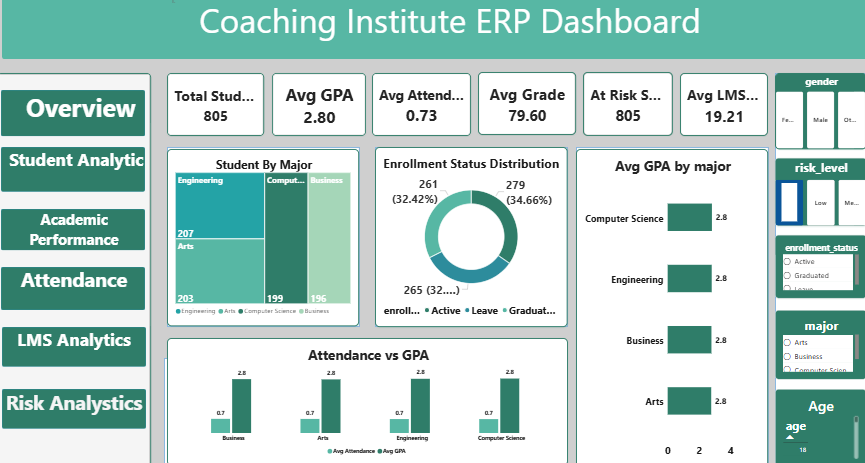

This screenshot's page, from the dashboard's own definition file:
{"tool":"powerbi","page":{"name":"Page 1","canvas":[1920,1080],"ordinal":0},"visuals":[{"type":"shape","box":[50.9,206.5,332.5,976.1],"z":0},{"type":"actionButton","box":[1980.8,1126.3,164.5,67.9],"z":1000},{"type":"actionButton","box":[50.9,756.2,311.1,85.8],"z":2000},{"type":"actionButton","box":[50.1,500.6,311.1,89.4],"z":3000},{"type":"actionButton","box":[50.1,243.1,311.1,100.1],"z":4000},{"type":"actionButton","box":[50.1,368.3,311.1,96.5],"z":5000},{"type":"actionButton","box":[50.1,625.7,311.1,93],"z":6000},{"type":"actionButton","box":[50.9,42.9,1869.1,134.1],"z":7000},{"type":"textbox","box":[50.9,42.9,1869.1,134.1],"z":8000},{"type":"textbox","box":[604.2,273.5,12.5,67.9],"z":9000},{"type":"actionButton","box":[50.9,890.3,311.1,85.8],"z":10000},{"type":"textbox","box":[50.9,244,311.1,99.2],"z":11000},{"type":"textbox","box":[50.9,367.4,311.1,96.5],"z":12000},{"type":"textbox","box":[50.9,501.5,311.1,88.5],"z":13000},{"type":"textbox","box":[50.9,624.8,311.1,93.9],"z":14000},{"type":"textbox","box":[50.9,756.2,311.1,85.8],"z":15000},{"type":"textbox","box":[50.9,890.3,311.1,85.8],"z":16000},{"type":"cardVisual","fields":{"Data":["Sheet1.Total Students"]},"box":[408.2,207.4,209.5,136.1],"z":17000},{"type":"cardVisual","fields":{"Data":["Sheet1.Avg GPA"]},"box":[635,207.4,203,136.1],"z":18000},{"type":"cardVisual","fields":{"Data":["Sheet1.Avg Attendance"]},"box":[851,207.4,213.8,136.1],"z":19000},{"type":"cardVisual","fields":{"Data":["Sheet1.Avg Grade"]},"box":[1080,205.2,211.7,136.1],"z":20000},{"type":"cardVisual","fields":{"Data":["Sheet1.At Risk Students"]},"box":[1306.8,205.2,194.4,138.2],"z":21000},{"type":"cardVisual","fields":{"Data":["Sheet1.Avg LMS Logins"]},"box":[1516.3,207.4,190.1,136.1],"z":22000},{"type":"shape","box":[407.6,367.4,415.6,388.8],"z":23000},{"type":"shape","box":[1292.5,367.4,415.6,691.8],"z":24000},{"type":"shape","box":[858.1,367.4,415.6,388.8],"z":25000},{"type":"shape","box":[402.2,823.2,871.5,236],"z":26000},{"type":"shape","box":[1721.5,207.4,198.7,851],"z":27000},{"type":"donutChart","title":"Enrollment Status Distribution","fields":{"Category":["Sheet1.enrollment_status"],"Y":["Sheet1.Student Count"]},"box":[858.1,367.4,415.6,388.8],"z":28000},{"type":"clusteredColumnChart","title":"Attendance vs GPA","fields":{"Category":["Sheet1.major"],"Y":["Sheet1.Avg Attendance","Sheet1.Avg GPA"]},"box":[407.6,780.3,866.1,276.2],"z":30000},{"type":"advancedSlicerVisual","fields":{"Values":["Sheet1.risk_level"]},"box":[1721.6,391.5,198.4,147.5],"z":31000},{"type":"listSlicer","fields":{"Values":["Sheet1.enrollment_status"]},"box":[1721.6,557.8,198.4,136.8],"z":32000},{"type":"listSlicer","fields":{"Values":["Sheet1.major"]},"box":[1721.6,718.7,198.4,150.2],"z":33000},{"type":"clusteredBarChart","fields":{"Category":["Sheet1.major"],"Y":["Sheet1.Avg GPA"]},"box":[1292.5,372.5,415,687.5],"z":34001},{"type":"treemap","title":"Student By Major","fields":{"Group":["Sheet1.major"],"Values":["Sheet1.Student Count"]},"box":[407.5,372.5,415,382.5],"z":34004},{"type":"advancedSlicerVisual","fields":{"Values":["Sheet1.gender"]},"box":[1722.5,207.5,197.5,165],"z":34005},{"type":"tableEx","title":"Age","fields":{"Values":["Sheet1.age"]},"box":[1721.5,889.9,196.6,168.5],"z":34006}]}

Visuals, with their boxes on the page's 1920x1080 design canvas (x1, y1, x2, y2). These are canvas units, not pixel positions in the 865x463 screenshot, which may show the page scaled, cropped or inside an application window:
shape: (x1=51, y1=206, x2=383, y2=1183)
actionButton: (x1=1981, y1=1126, x2=2145, y2=1194)
actionButton: (x1=51, y1=756, x2=362, y2=842)
actionButton: (x1=50, y1=501, x2=361, y2=590)
actionButton: (x1=50, y1=243, x2=361, y2=343)
actionButton: (x1=50, y1=368, x2=361, y2=465)
actionButton: (x1=50, y1=626, x2=361, y2=719)
actionButton: (x1=51, y1=43, x2=1920, y2=177)
textbox: (x1=51, y1=43, x2=1920, y2=177)
textbox: (x1=604, y1=274, x2=617, y2=341)
actionButton: (x1=51, y1=890, x2=362, y2=976)
textbox: (x1=51, y1=244, x2=362, y2=343)
textbox: (x1=51, y1=367, x2=362, y2=464)
textbox: (x1=51, y1=502, x2=362, y2=590)
textbox: (x1=51, y1=625, x2=362, y2=719)
textbox: (x1=51, y1=756, x2=362, y2=842)
textbox: (x1=51, y1=890, x2=362, y2=976)
cardVisual - Sheet1.Total Students: (x1=408, y1=207, x2=618, y2=344)
cardVisual - Sheet1.Avg GPA: (x1=635, y1=207, x2=838, y2=344)
cardVisual - Sheet1.Avg Attendance: (x1=851, y1=207, x2=1065, y2=344)
cardVisual - Sheet1.Avg Grade: (x1=1080, y1=205, x2=1292, y2=341)
cardVisual - Sheet1.At Risk Students: (x1=1307, y1=205, x2=1501, y2=343)
cardVisual - Sheet1.Avg LMS Logins: (x1=1516, y1=207, x2=1706, y2=344)
shape: (x1=408, y1=367, x2=823, y2=756)
shape: (x1=1292, y1=367, x2=1708, y2=1059)
shape: (x1=858, y1=367, x2=1274, y2=756)
shape: (x1=402, y1=823, x2=1274, y2=1059)
shape: (x1=1722, y1=207, x2=1920, y2=1058)
"Enrollment Status Distribution" donutChart: (x1=858, y1=367, x2=1274, y2=756)
"Attendance vs GPA" clusteredColumnChart: (x1=408, y1=780, x2=1274, y2=1056)
advancedSlicerVisual - Sheet1.risk_level: (x1=1722, y1=392, x2=1920, y2=539)
listSlicer - Sheet1.enrollment_status: (x1=1722, y1=558, x2=1920, y2=695)
listSlicer - Sheet1.major: (x1=1722, y1=719, x2=1920, y2=869)
clusteredBarChart - Sheet1.major x Sheet1.Avg GPA: (x1=1292, y1=372, x2=1708, y2=1060)
"Student By Major" treemap: (x1=408, y1=372, x2=822, y2=755)
advancedSlicerVisual - Sheet1.gender: (x1=1722, y1=208, x2=1920, y2=372)
"Age" tableEx: (x1=1722, y1=890, x2=1918, y2=1058)
